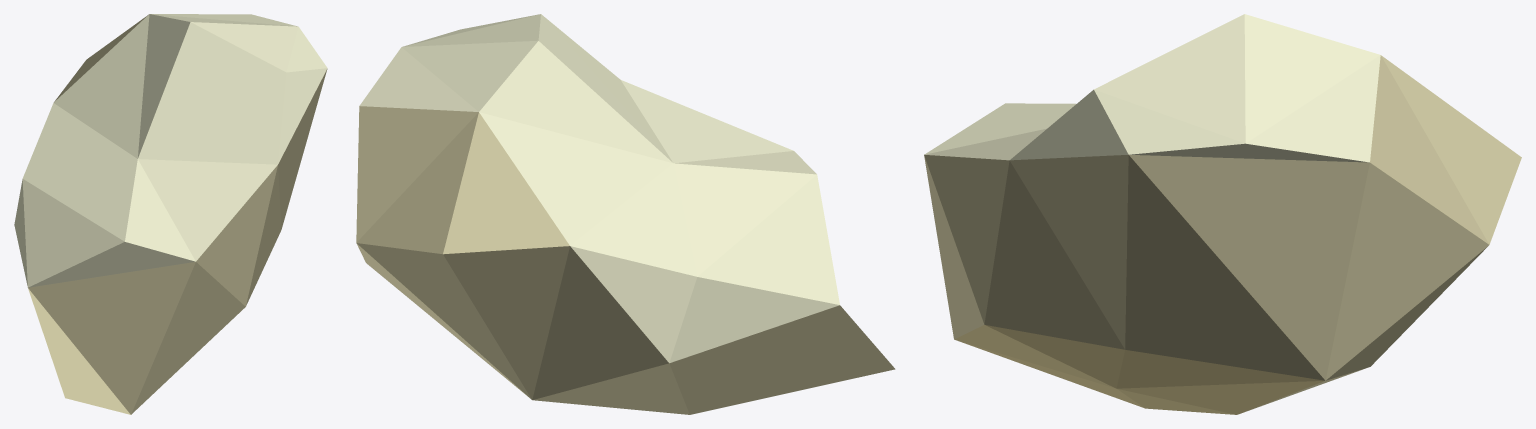
3 renders of one model, left to right at view 1: azimuth 30°, elevation 25°; view 2: azimuth 150°, elevation 25°; view 3: azimuth 270°, elevation 25°, orthographic. The views are drawn at different scales.
Visible parts, largest first — view 1: Object046; view 2: Object046; view 3: Object046.
Part boxes in pixels (x1,y1,x2,y2): Object046: (14,14,327,414); Object046: (356,14,895,414); Object046: (924,14,1521,414).
Size of the model in its own units: 18.45 by 16.73 by 19.69.
